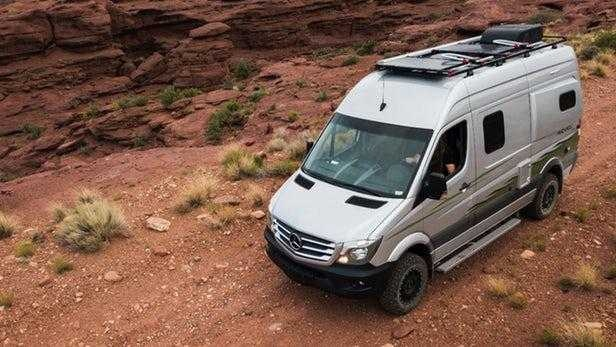van: (264, 22, 582, 316)
